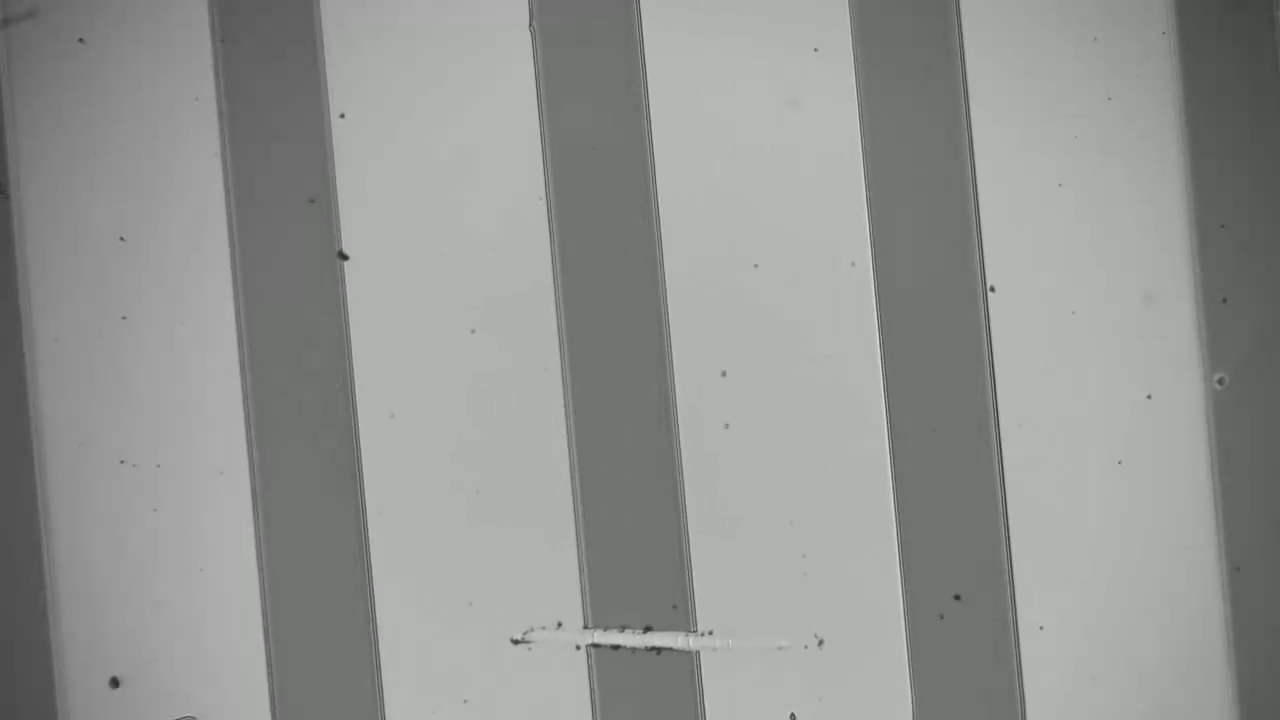Short_circuit: (562, 604, 721, 675)
